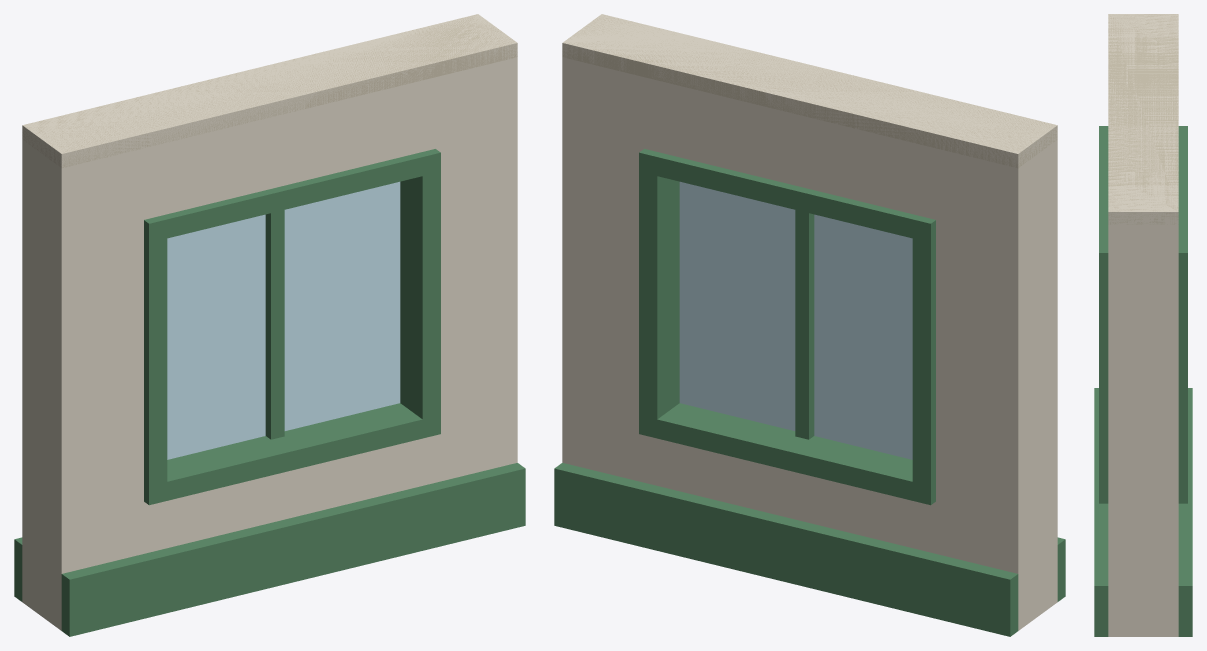
The model's file is wall-window.glb.
3 views of the same model, side by side, from view 1: azimuth 30°, elevation 25°; view 2: azimuth 150°, elevation 25°; view 3: azimuth 270°, elevation 25° (orthographic). The views are drawn at different scales.
Parts seen in each view (by area): view 1: wall-window; view 2: wall-window; view 3: wall-window.
Boxes of the visible parts, x1=… form: wall-window: x1=14, y1=14, x2=525, y2=636; wall-window: x1=554, y1=14, x2=1065, y2=636; wall-window: x1=1094, y1=14, x2=1192, y2=636.
Bounding box in the file's own units: 1 × 1 × 0.21.
Materials: 1 (1 with a texture image).
